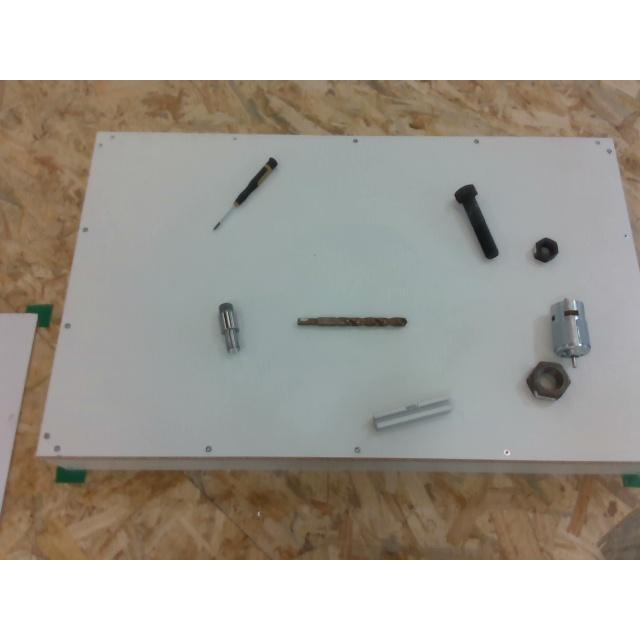Axis2: (218, 302, 240, 351)
Drill: (296, 314, 406, 326)
F20_20_G: (372, 396, 452, 432)
M20: (534, 237, 558, 261)
M20_100: (454, 182, 501, 260)
M30: (526, 360, 570, 400)
Motor2: (550, 298, 590, 368)
